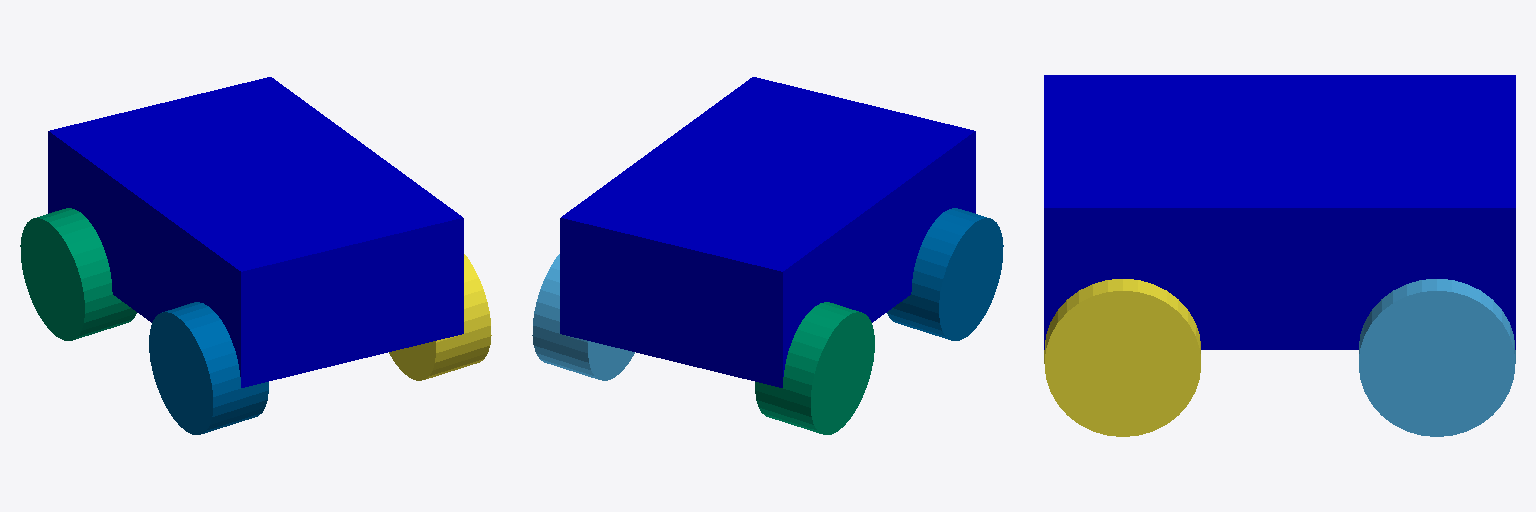
The robot description file, URDF, robot "test_robot":
<?xml version="1.0"?>  
<robot name="test_robot"> 
<!-- material blue and black color-->
  <material name="blue">  
    <color rgba="0 0 .8 1"/> 
  </material>   
  <material name="back"> 
    <color rgba="0 0 .8 1"/>
  </material> 
<!-- 5 link = base_link + 4 wheel -->
      <link name="base_link">  
        <visual>  
           <geometry>  
             <box size="0.2 .3 .1"/>  
           </geometry>  
           <origin rpy="0 0 0" xyz="0 0 0.05"/> 
	   <material name="blue"/> 
        </visual>  
      </link>  
      
      <link name="wheel_1">  
        <visual>  
          <geometry>  
            <cylinder length="0.05" radius="0.05"/>  
          </geometry>  
          <origin rpy="0 1.5 0" xyz="0.1 0.1 0"/>  
	  <material name="black"/> 
        </visual>  
      </link>  
      
      <link name="wheel_2">  
        <visual>  
          <geometry>  
            <cylinder length="0.05" radius="0.05"/>  
          </geometry>  
          <origin rpy="0 1.5 0" xyz="-0.1 0.1 0"/> 
	  <material name="black"/>  
        </visual>  
      </link>  
      
      <link name="wheel_3">  
        <visual>  
          <geometry>  
            <cylinder length="0.05" radius="0.05"/>  
          </geometry>  
          <origin rpy="0 1.5 0" xyz="0.1 -0.1 0"/>  
	  <material name="black"/> 
        </visual>  
      </link>  
      
      <link name="wheel_4">  
        <visual>  
          <geometry>  
            <cylinder length="0.05" radius="0.05"/>  
          </geometry>  
          <origin rpy="0 1.5 0" xyz="-0.1 -0.1 0"/>  
	  <material name="black"/> 
        </visual>  
      </link>  

<!-- 4 joint = base_link to 4 wheel -->      
      <joint name="joint_base_wheel1" type="fixed">  
        <parent link="base_link"/>  
        <child link="wheel_1"/>  
      </joint>  
      
      <joint name="joint_base_wheel2" type="fixed">  
        <parent link="base_link"/>  
        <child link="wheel_2"/>  
      </joint>  
      
      <joint name="joint_base_wheel3" type="fixed">  
        <parent link="base_link"/>  
        <child link="wheel_3"/>  
      </joint>  
      
      <joint name="joint_base_wheel4" type="fixed">  
        <parent link="base_link"/>  
        <child link="wheel_4"/>  
      </joint>  
</robot>  

--- Render facts (derived) ---
The picture shows the robot from 3 angles, left to right: view 1: azimuth 30°, elevation 25°; view 2: azimuth 150°, elevation 25°; view 3: azimuth 270°, elevation 25°; orthographic projection.
Robot: test_robot — 5 links, 4 joints (4 fixed); root link base_link; default pose: every joint at zero.
Visible links, largest first — view 1: base_link, wheel_4, wheel_2, wheel_3; view 2: base_link, wheel_2, wheel_4, wheel_1; view 3: base_link, wheel_1, wheel_3.
Link boxes in pixels (left/top/right/bottom): base_link: left=48, top=77, right=463, bottom=387; wheel_4: left=149, top=302, right=268, bottom=434; wheel_2: left=20, top=208, right=136, bottom=340; wheel_3: left=389, top=254, right=491, bottom=380; base_link: left=560, top=77, right=975, bottom=387; wheel_2: left=755, top=302, right=874, bottom=434; wheel_4: left=887, top=208, right=1003, bottom=340; wheel_1: left=532, top=254, right=634, bottom=380; base_link: left=1044, top=75, right=1515, bottom=349; wheel_1: left=1359, top=279, right=1515, bottom=436; wheel_3: left=1044, top=279, right=1200, bottom=436.
Size in the robot's own frame: 0.2569 by 0.3 by 0.1516 metres.
Geometry: primitives only (box / cylinder / sphere), no mesh files.